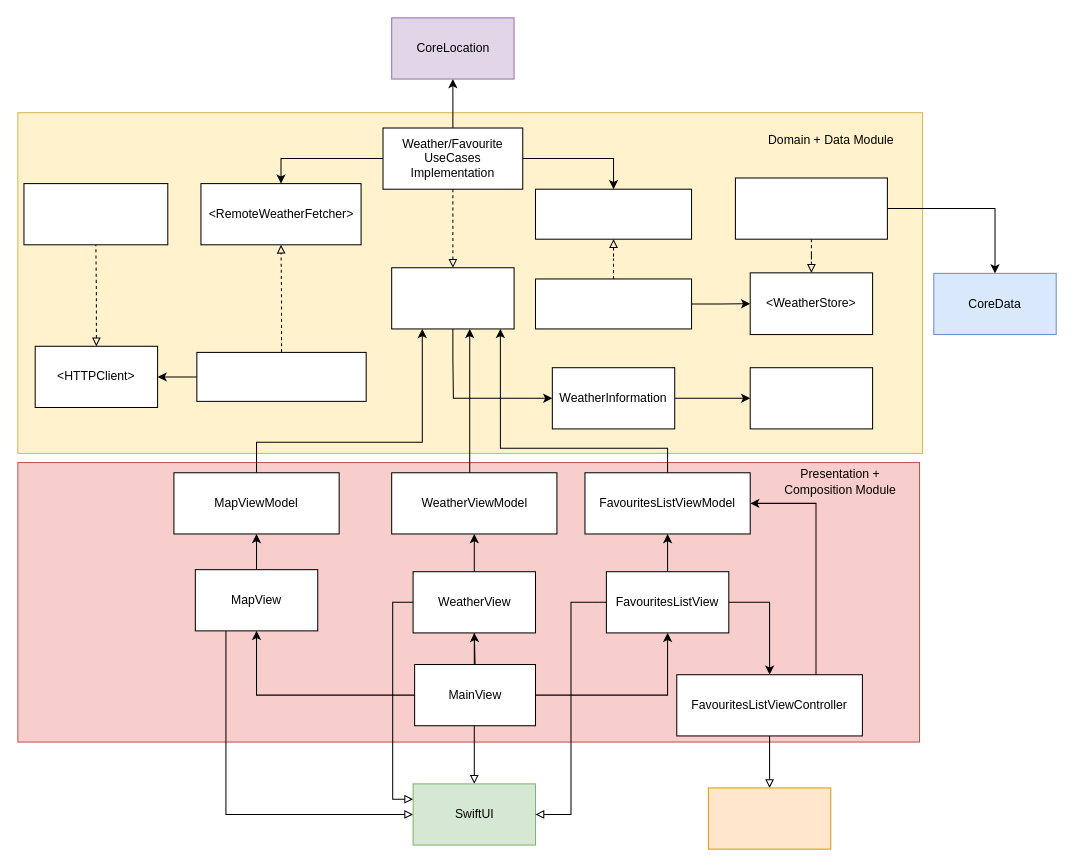
The diagram is 1074 pixels wide and 867 high, and some of its shapes have lost their labels. The shapes that lost their labels are listed below. From the top down, each one's box as (x1, y1, x2, y2) in pixels, then its label:
(23, 183, 168, 245): URLSessionHTTPClient
(534, 188, 692, 239): <WeatherCache>
(734, 177, 887, 239): CoreDataWeatherStore
(391, 267, 514, 329): Weather/Favourite UseCases
(534, 278, 692, 329): WeatherCacheImpl
(196, 351, 366, 401): RemoteWeatherFetcherImpl
(749, 367, 873, 429): WeatherForecast
(707, 787, 831, 849): UIKit
